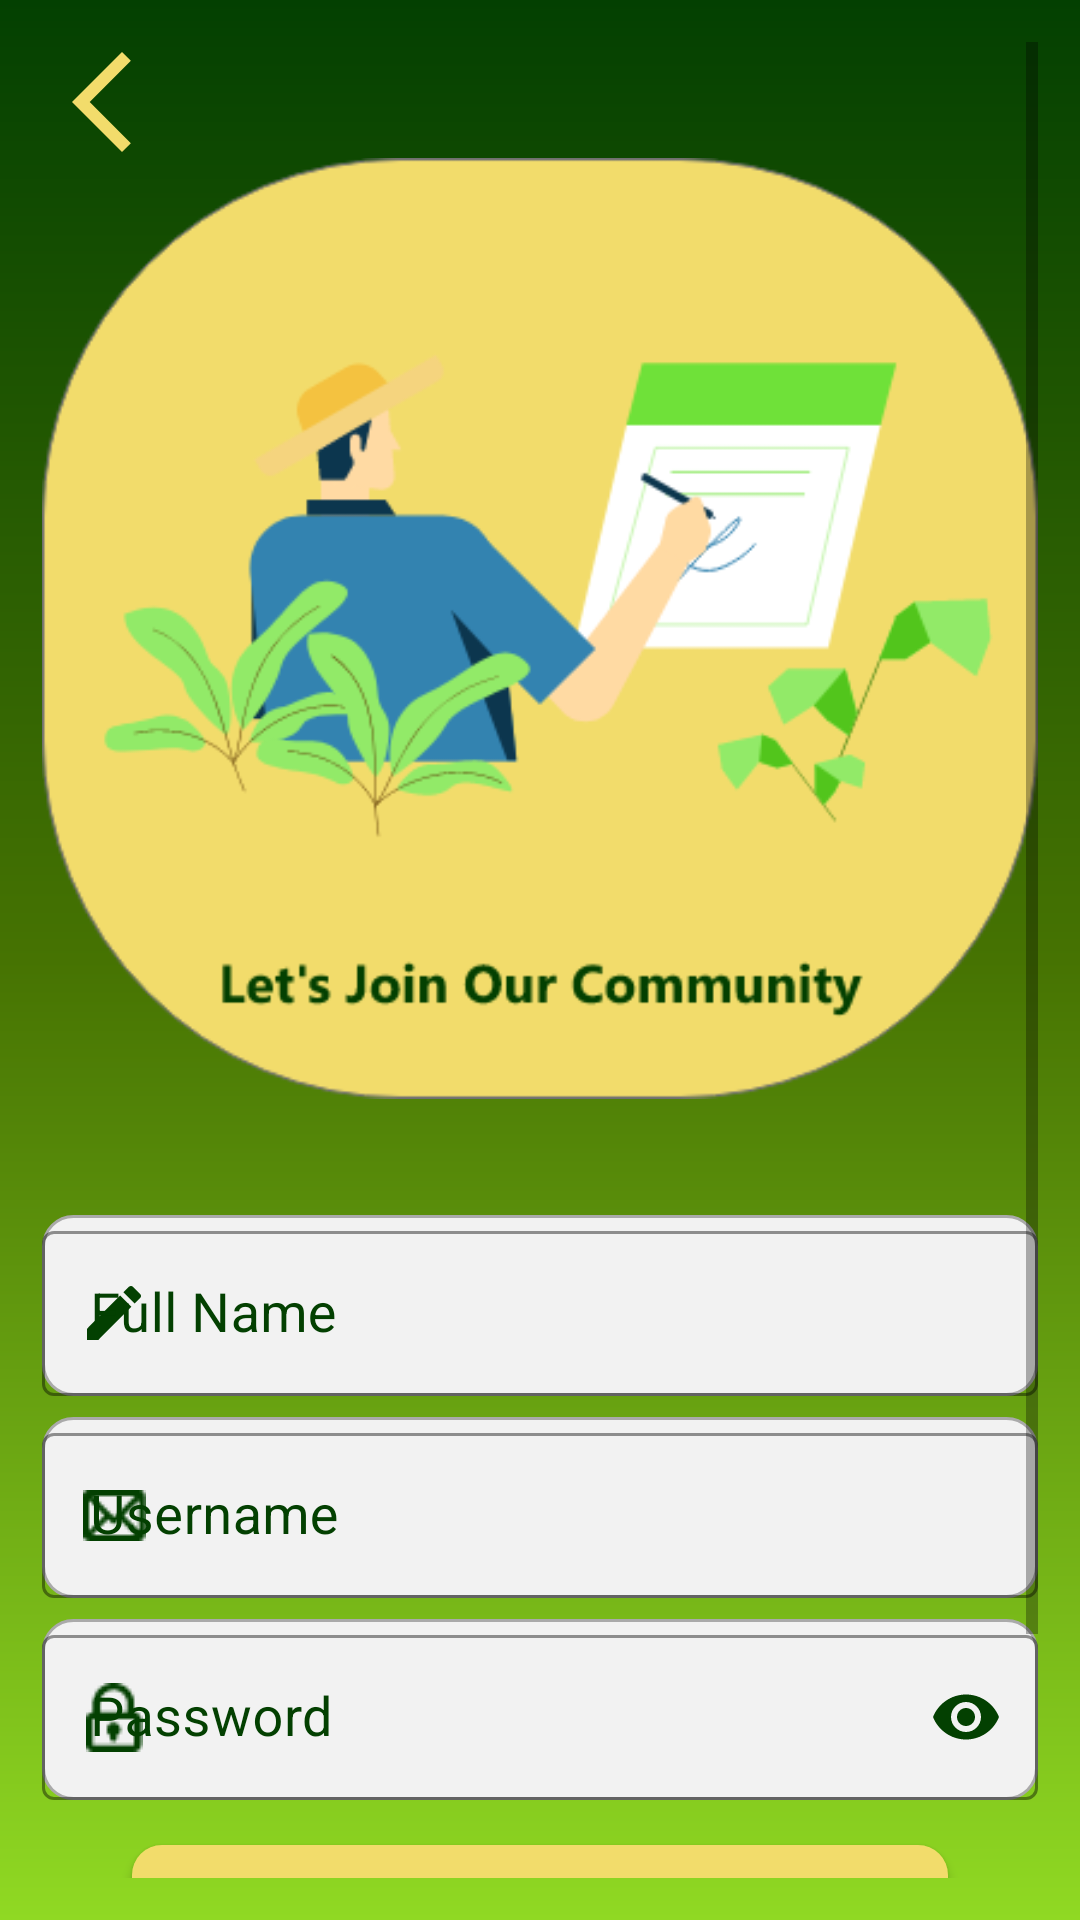

Icon bounding boxes for this 1080x1920 phone screenshot, format (x1, y1, x2, y2):
arrow back: (72, 52, 131, 152)
